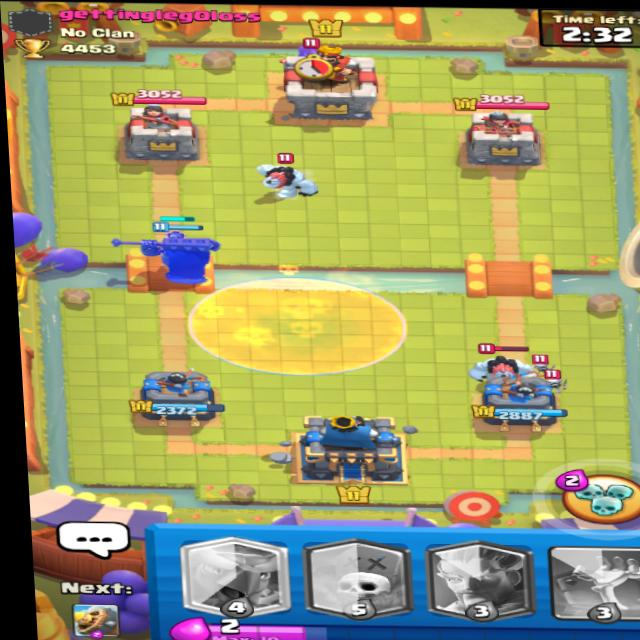electro-spirit: (283, 41, 339, 70)
ice-golem: (242, 155, 333, 218), (473, 345, 547, 383)
skeleton: (518, 350, 555, 370), (540, 364, 565, 384)
